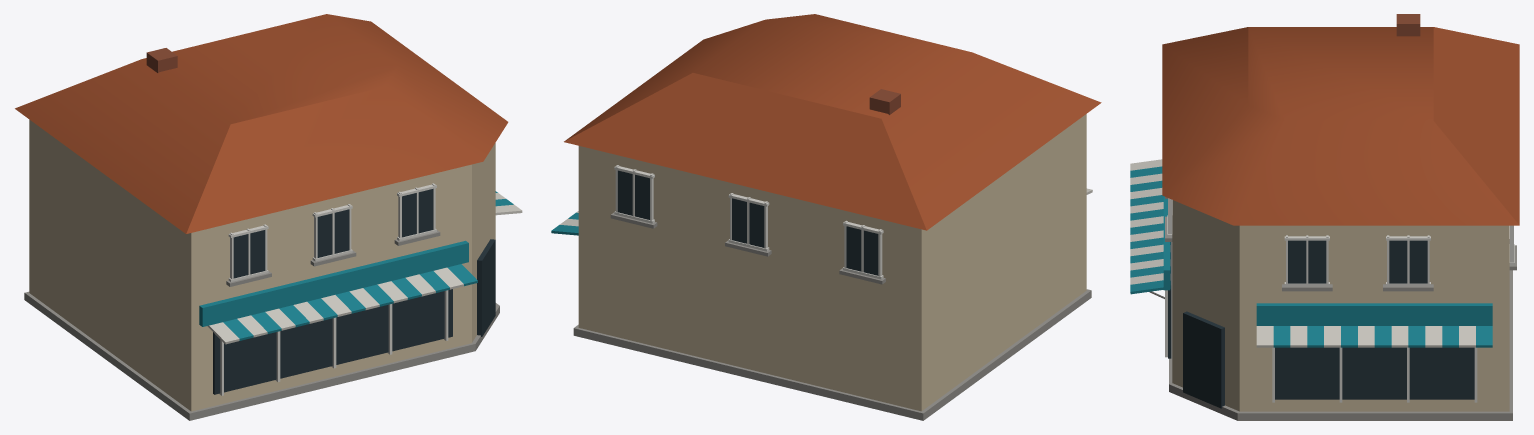
File: Scenery_Shop.fbx
3 renders of one model, left to right at view 1: azimuth 30°, elevation 25°; view 2: azimuth 150°, elevation 25°; view 3: azimuth 270°, elevation 25°, orthographic. The views are drawn at different scales.
Parts seen in each view (by area): view 1: Scenery_Shop_LOD0; view 2: Scenery_Shop_LOD0; view 3: Scenery_Shop_LOD0.
Part boxes in pixels (x1=…): Scenery_Shop_LOD0: x1=15, y1=14, x2=522, y2=420; Scenery_Shop_LOD0: x1=551, y1=14, x2=1101, y2=420; Scenery_Shop_LOD0: x1=1130, y1=14, x2=1519, y2=420.
Size of what is drawn, in the model's own units: 13.61 by 8.9 by 11.55.
